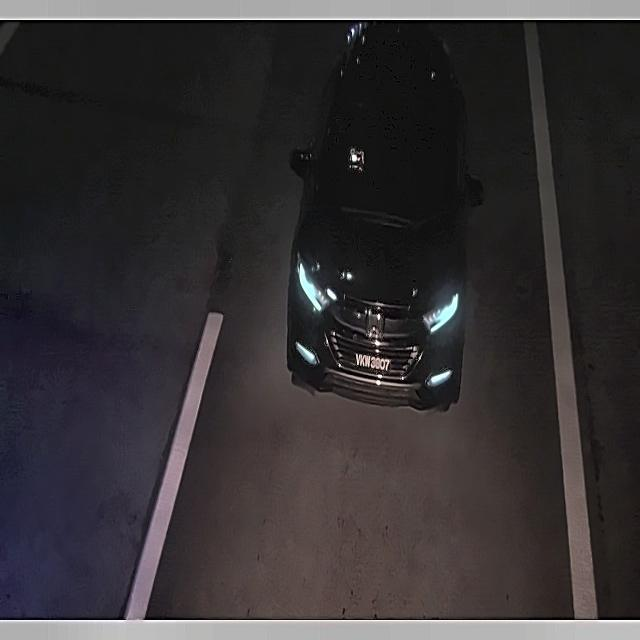car: (352, 343, 395, 378)
